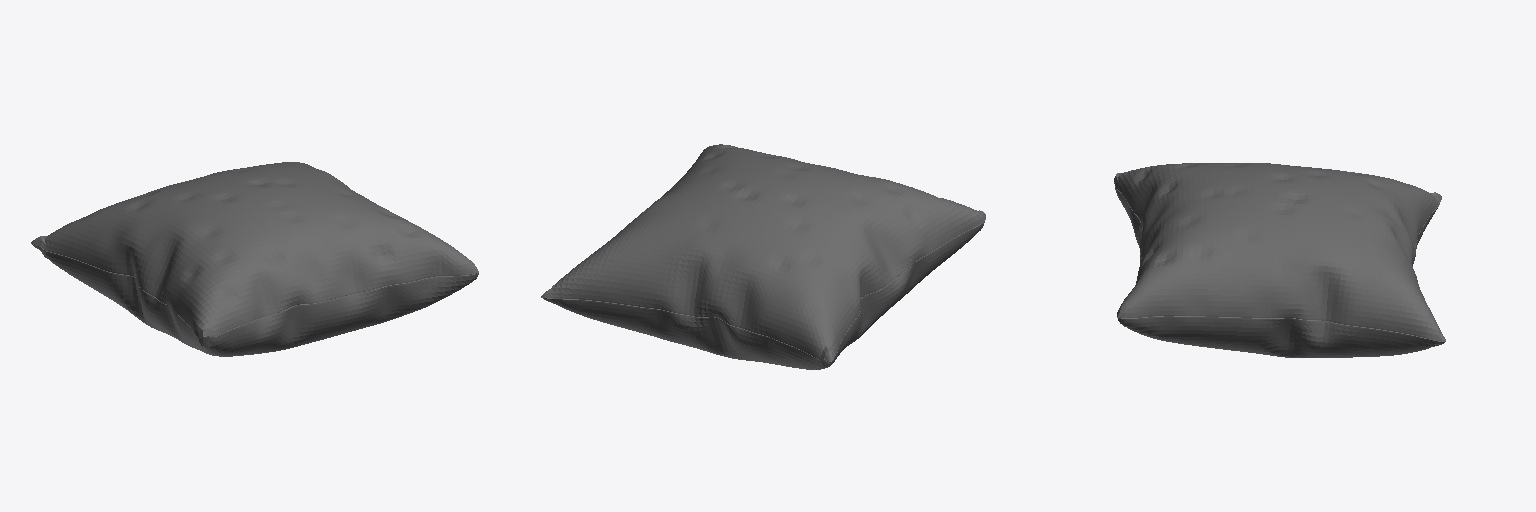
File: pillows_obj.obj
3 renders of one model, left to right at view 1: azimuth 30°, elevation 25°; view 2: azimuth 150°, elevation 25°; view 3: azimuth 270°, elevation 25°, orthographic.
Parts seen in each view (by area): view 1: small_pillow.001; view 2: small_pillow.001; view 3: small_pillow.001.
Boxes of the visible parts, x1,y1,x2,y2 form: small_pillow.001: [31, 162, 478, 356]; small_pillow.001: [541, 144, 985, 369]; small_pillow.001: [1114, 163, 1445, 357].
Bounding box in the file's own units: 35 × 15.4 × 34.85.